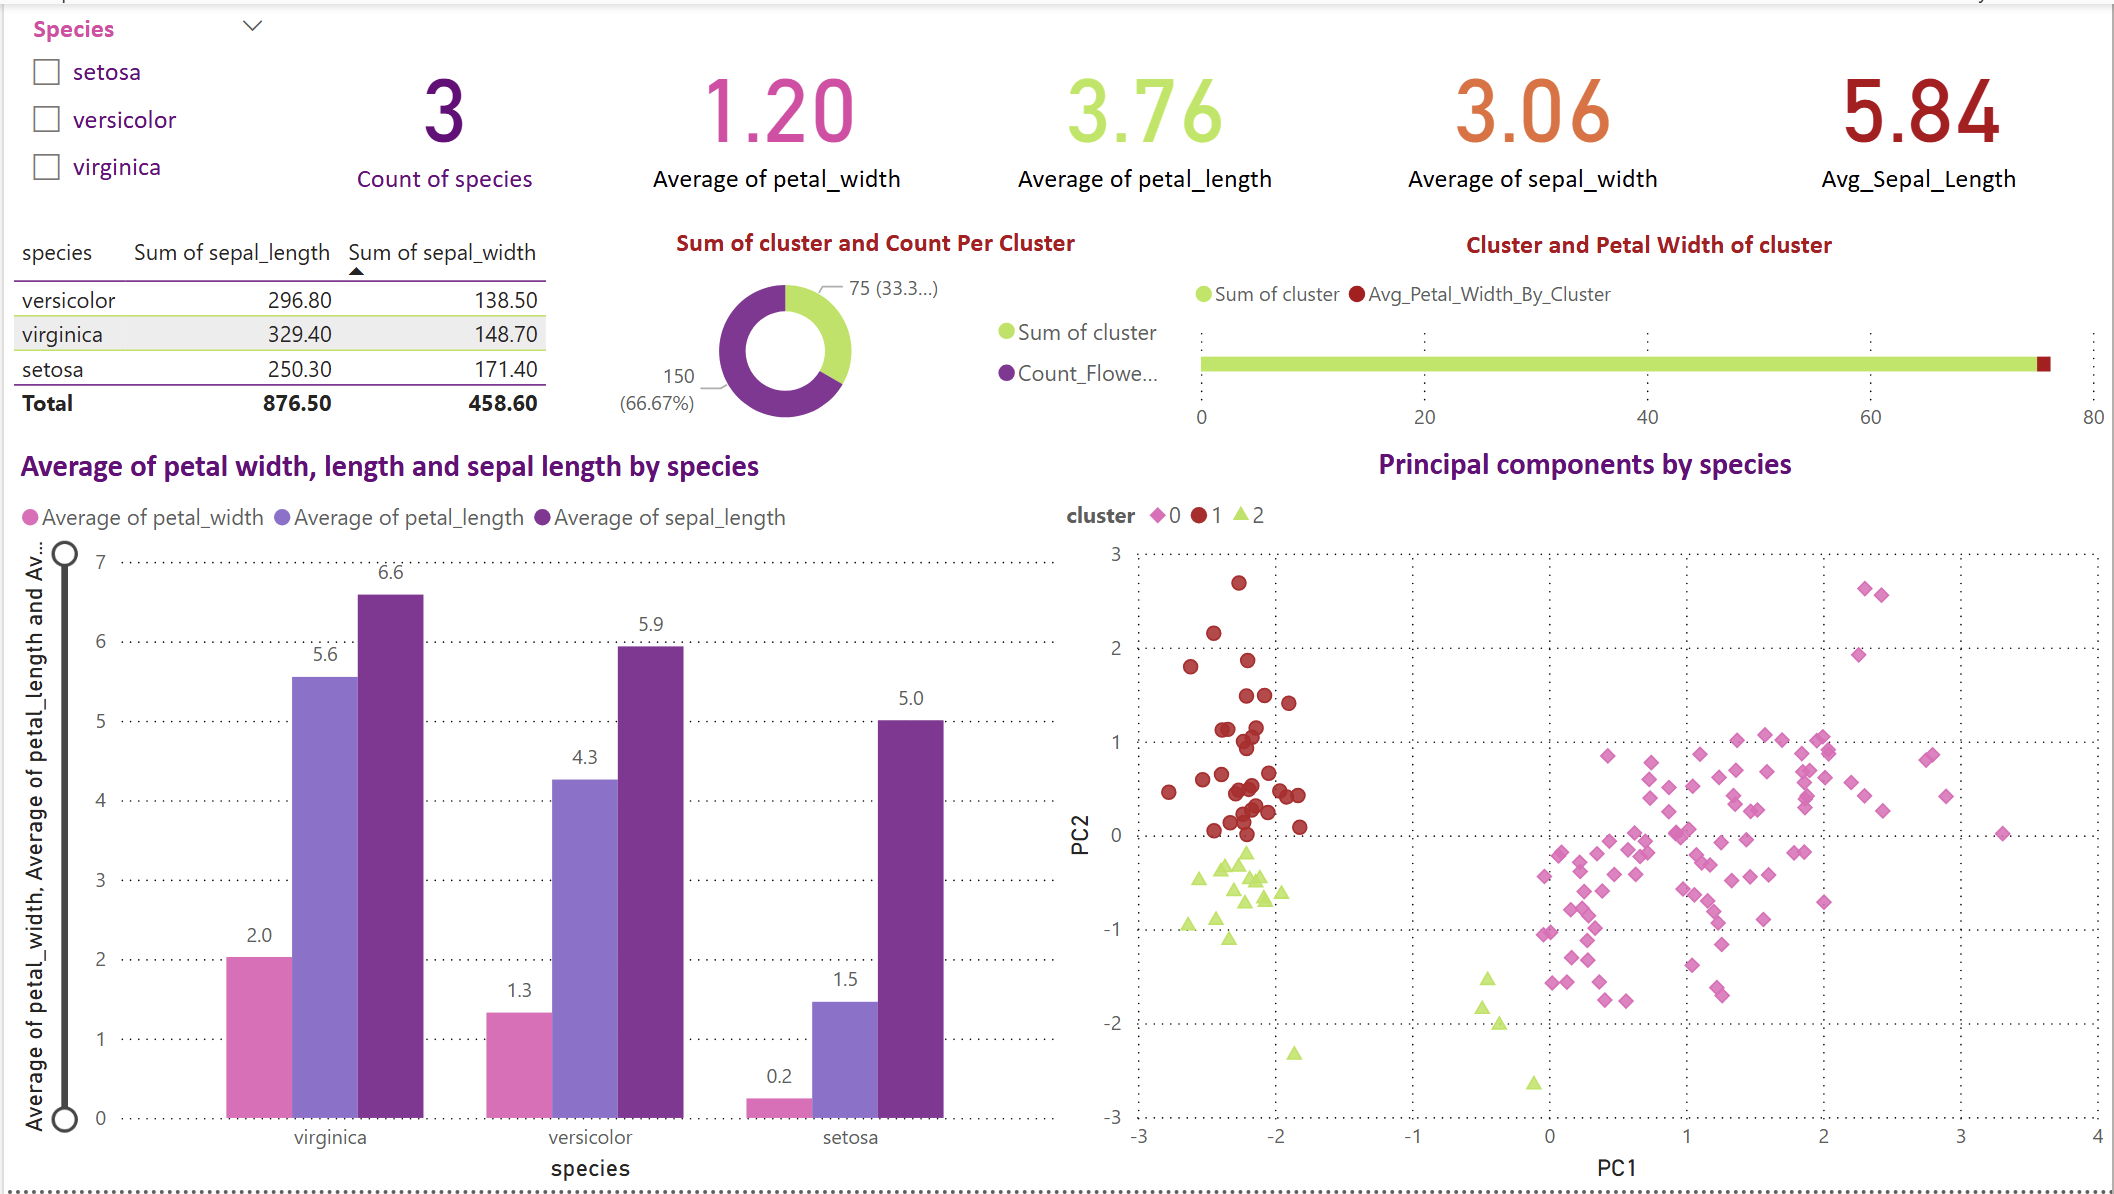

The dashboard page shown, as its layout file describes it:
{"tool":"powerbi","page":{"name":"Page 1","canvas":[1280,720],"ordinal":0},"visuals":[{"type":"clusteredColumnChart","title":"Average of petal width, length and sepal length by species","fields":{"Category":["iris_cleaned_clustered.species"],"Y":["Avg(iris_cleaned_clustered.petal_width)","Avg(iris_cleaned_clustered.petal_length)","Avg(iris_cleaned_clustered.sepal_length)"]},"box":[5.4,268.7,640.5,451.3],"z":0},{"type":"scatterChart","title":"Principal components by species","fields":{"X":["iris_cleaned_clustered.PC1"],"Y":["iris_cleaned_clustered.PC2"],"Series":["iris_cleaned_clustered.cluster"]},"box":[640,267.7,640,452],"z":1000},{"type":"slicer","fields":{"Values":["iris_cleaned_clustered.species"]},"box":[5,0,165,144],"z":2000},{"type":"card","fields":{"Values":["iris_cleaned_clustered.Avg_Sepal_Length"]},"box":[1045.4,0,234.6,134.7],"z":3000},{"type":"barChart","title":"Cluster and Petal Width of cluster","fields":{"Y":["Sum(iris_cleaned_clustered.cluster)","iris_cleaned_clustered.Avg_Petal_Width_By_Cluster"]},"box":[717.3,135.6,562.7,133.2],"z":4000},{"type":"donutChart","title":"Sum of cluster and Count Per Cluster","fields":{"Y":["Sum(iris_cleaned_clustered.cluster)","iris_cleaned_clustered.Count_Flowers_Per_Cluster"]},"box":[341.5,134.7,376.3,132.4],"z":5000},{"type":"tableEx","fields":{"Values":["iris_cleaned_clustered.species","Sum(iris_cleaned_clustered.sepal_length)","Sum(iris_cleaned_clustered.sepal_width)"]},"box":[0,134.7,341.5,132.4],"z":6000},{"type":"card","fields":{"Values":["Avg(iris_cleaned_clustered.sepal_width)"]},"box":[810.7,0,234.6,134.7],"z":7000},{"type":"card","fields":{"Values":["Avg(iris_cleaned_clustered.petal_length)"]},"box":[576.1,0,234.6,134.7],"z":8000},{"type":"card","fields":{"Values":["Avg(iris_cleaned_clustered.petal_width)"]},"box":[363.6,0,212.6,134.7],"z":9000},{"type":"card","fields":{"Values":["Count(iris_cleaned_clustered.species)"]},"box":[170.7,0,192.8,134.7],"z":10000},{"type":"qnaVisual","box":[427.1,0,852.9,13.1],"z":11000}]}

Visuals, with their boxes in screenshot pixels (x1, y1, x2, y2), scaled from the page's 1280x720 canvas onto the 2114x1194 screenshot:
"Average of petal width, length and sepal length by species" clusteredColumnChart: <region>9, 446, 1067, 1193</region>
"Principal components by species" scatterChart: <region>1057, 444, 2113, 1193</region>
slicer - iris_cleaned_clustered.species: <region>8, 0, 281, 239</region>
card - iris_cleaned_clustered.Avg_Sepal_Length: <region>1727, 0, 2113, 223</region>
"Cluster and Petal Width of cluster" barChart: <region>1185, 225, 2113, 446</region>
"Sum of cluster and Count Per Cluster" donutChart: <region>564, 223, 1185, 443</region>
tableEx - iris_cleaned_clustered.species x Sum(iris_cleaned_clustered.sepal_length): <region>0, 223, 564, 443</region>
card - Avg(iris_cleaned_clustered.sepal_width): <region>1339, 0, 1726, 223</region>
card - Avg(iris_cleaned_clustered.petal_length): <region>951, 0, 1339, 223</region>
card - Avg(iris_cleaned_clustered.petal_width): <region>601, 0, 952, 223</region>
card - Count(iris_cleaned_clustered.species): <region>282, 0, 600, 223</region>
qnaVisual: <region>705, 0, 2113, 22</region>
